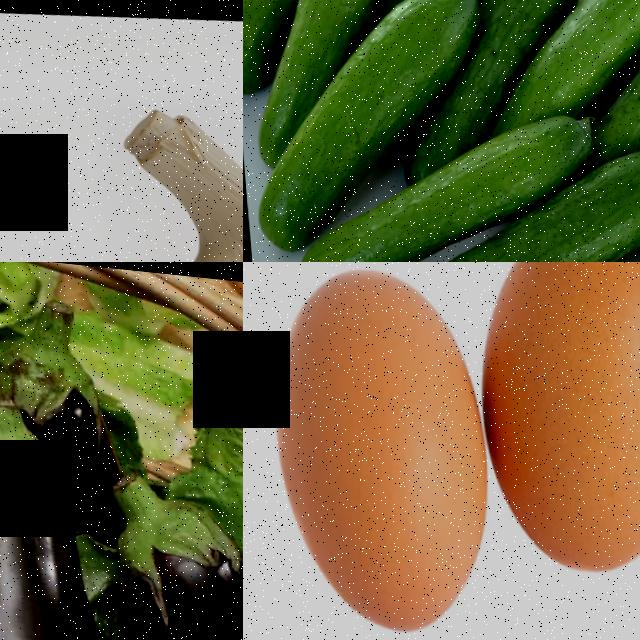cucumber: (330, 0, 487, 140), (293, 163, 448, 262), (547, 121, 640, 262), (390, 230, 542, 262)
egg_: (253, 262, 496, 640), (461, 262, 640, 581)
eggplant: (0, 419, 136, 640), (113, 479, 243, 640)
garlic: (59, 136, 243, 262)
